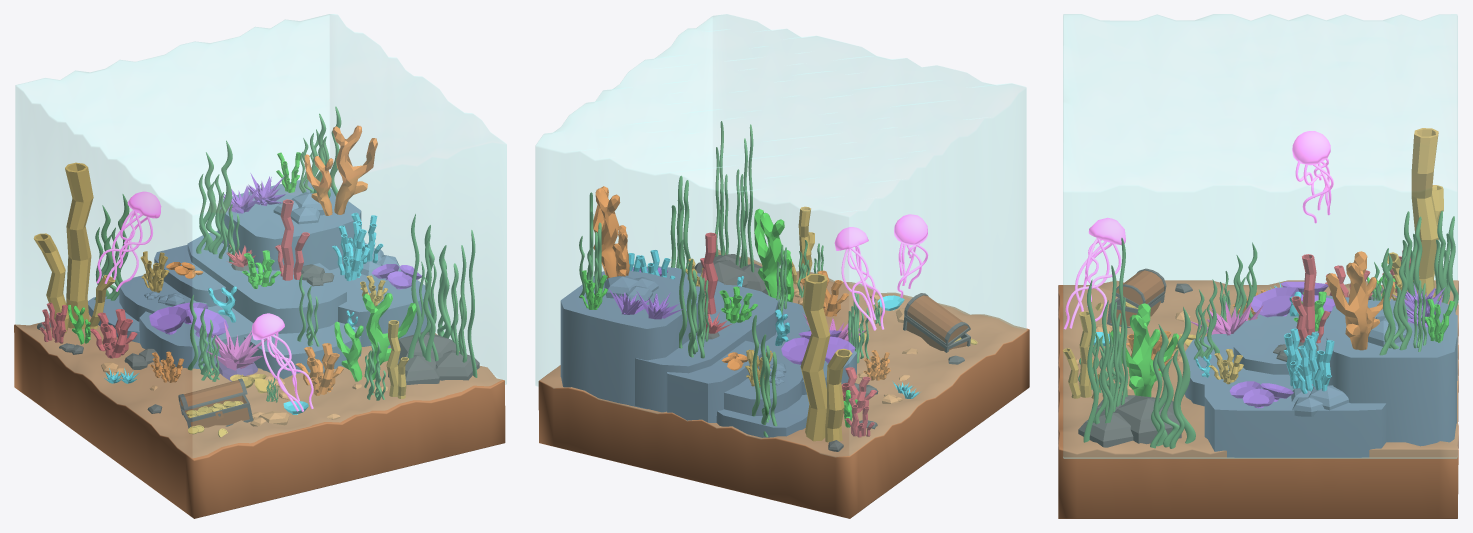
File: reef-transformed.glb
3 views of the same model, side by side, from view 1: azimuth 30°, elevation 25°; view 2: azimuth 150°, elevation 25°; view 3: azimuth 270°, elevation 25° (orthographic). The views are drawn at different scales.
Visible parts, largest first — view 1: Sea, Sand, Cube.002, Cube.001, Cylinder.003, Plane.017, Plane.002, Plane.003, Cylinder.001, Cylinder.008, Plane.010, Plane.005 (+27 smaller); view 2: Sea, Sand, Cube.002, Cube.001, Cylinder.003, Plane.017, Cylinder.008, Plane.003, Plane.002, Cylinder.001, Plane.006, BezierCurve.001 (+17 smaller); view 3: Sea, Sand, Cube.002, Cylinder.003, Plane.005, Cylinder.001, Plane.010, Plane.002, Cylinder.008, Plane.017, Plane.013, Icosphere.002 (+23 smaller).
Part boxes in pixels (box(x1,y1,x2,y2)): Sea: box(15, 14, 506, 457); Sand: box(14, 314, 505, 518); Cube.002: box(187, 180, 433, 378); Cube.001: box(88, 244, 253, 368); Cylinder.003: box(33, 162, 115, 333); Plane.017: box(178, 378, 253, 428); Plane.002: box(408, 214, 438, 361); Plane.003: box(196, 140, 232, 254); Cylinder.001: box(332, 125, 377, 214); Cylinder.008: box(362, 293, 416, 379); Plane.010: box(453, 230, 477, 377); Plane.005: box(424, 225, 459, 351); Sea: box(535, 14, 1026, 456); Sand: box(538, 249, 1029, 518); Cube.002: box(560, 266, 810, 412); Cube.001: box(666, 332, 856, 437); Cylinder.003: box(800, 273, 852, 442); Plane.017: box(903, 293, 970, 352); Cylinder.008: box(754, 208, 784, 299); Plane.003: box(678, 239, 704, 358); Plane.002: box(735, 124, 754, 272); Cylinder.001: box(593, 186, 620, 278); Plane.006: box(752, 315, 777, 437); BezierCurve.001: box(841, 246, 884, 330); Sea: box(1063, 14, 1457, 458); Sand: box(1058, 280, 1458, 518); Cube.002: box(1184, 300, 1456, 457); Cylinder.003: box(1387, 128, 1443, 297); Plane.005: box(1150, 307, 1195, 448); Cylinder.001: box(1326, 251, 1367, 350); Plane.010: box(1083, 279, 1113, 442); Plane.002: box(1109, 238, 1128, 412); Cylinder.008: box(1109, 303, 1151, 396); Plane.017: box(1107, 268, 1166, 327); Plane.013: box(1379, 248, 1412, 355); Icosphere.002: box(1114, 395, 1181, 444).
Bounding box in the file's own units: 1.52 × 1.39 × 1.5.
